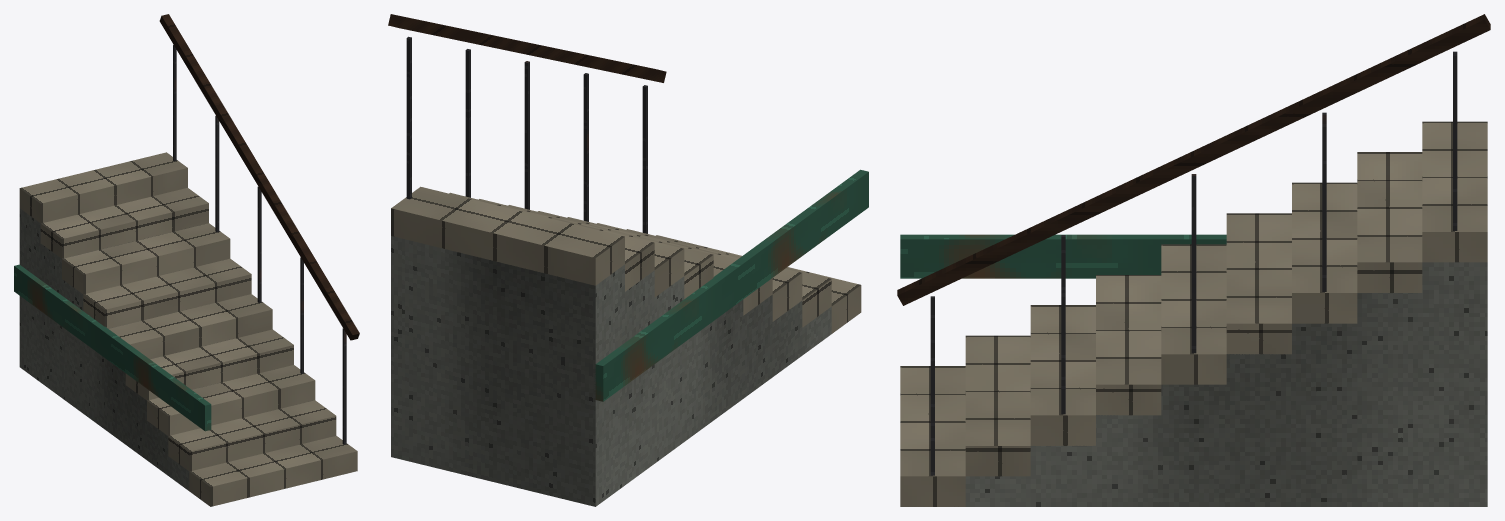
The model's file is stairwell_flight.glb.
3 renders of one model, left to right at view 1: azimuth 30°, elevation 25°; view 2: azimuth 150°, elevation 25°; view 3: azimuth 270°, elevation 25°, orthographic. The views are drawn at different scales.
Parts seen in each view (by area): view 1: stairwell_flight; view 2: stairwell_flight; view 3: stairwell_flight.
Boxes of the visible parts, x1,y1,x2,y2 form: stairwell_flight: (14,14,359,506); stairwell_flight: (388,14,868,506); stairwell_flight: (897,14,1490,506).
Size of what is drawn, in the model's own units: 1.25 by 2.48 by 2.73.
5 materials, 5 textured.
